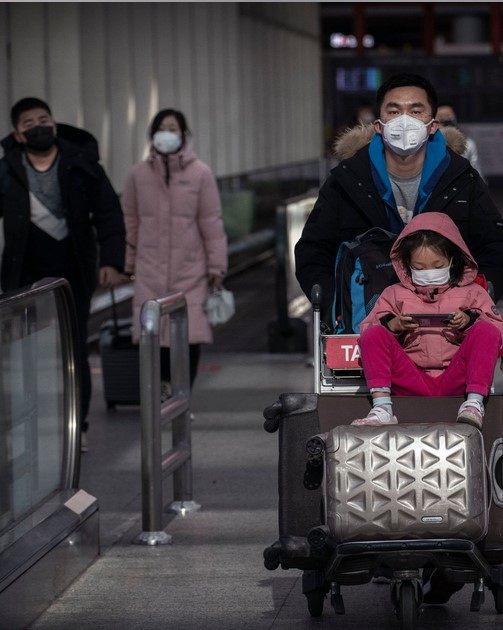face_with_mask: (374, 81, 440, 160), (405, 233, 457, 291), (9, 98, 57, 156), (148, 111, 188, 156)
